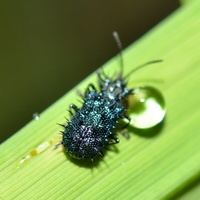insect: (17, 32, 165, 166)
